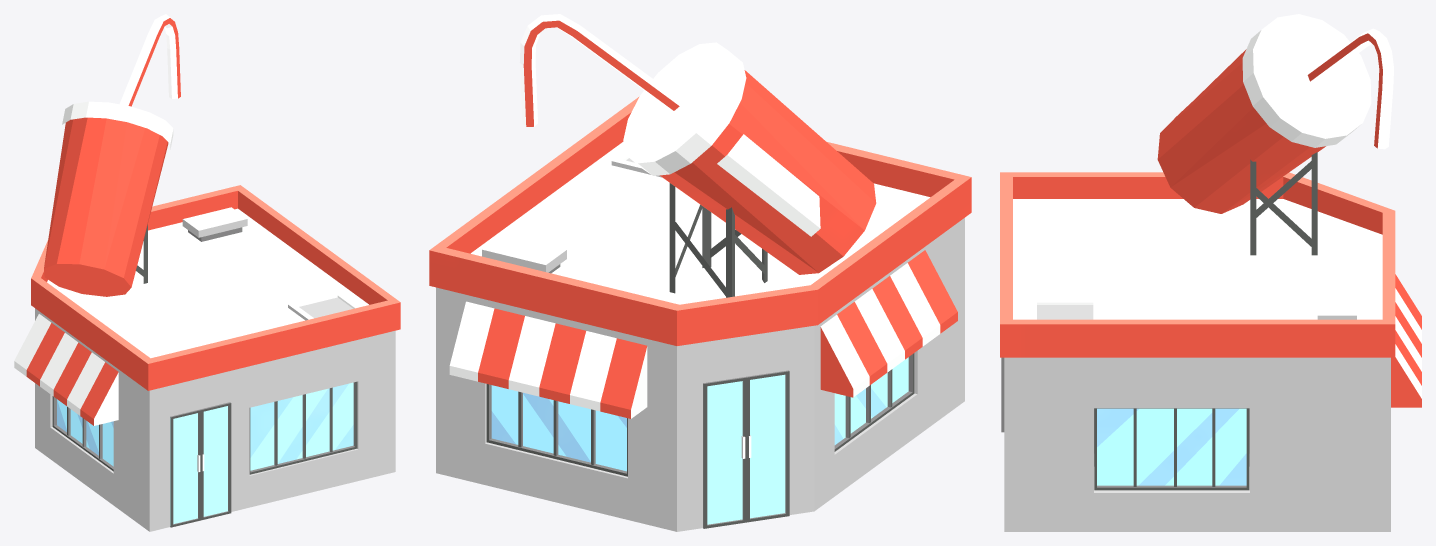
The model's file is snack.004.glb.
3 views of the same model, side by side, from view 1: azimuth 30°, elevation 25°; view 2: azimuth 150°, elevation 25°; view 3: azimuth 270°, elevation 25° (orthographic). The views are drawn at different scales.
Parts seen in each view (by area): view 1: snack.004(Clone); view 2: snack.004(Clone); view 3: snack.004(Clone).
Boxes of the visible parts, bbox=[...] form: snack.004(Clone): bbox=[14, 14, 400, 531]; snack.004(Clone): bbox=[429, 14, 971, 531]; snack.004(Clone): bbox=[1000, 14, 1421, 531].
Bounding box in the file's own units: 5.65 × 7.19 × 6.09.
1 material, 1 textured.
